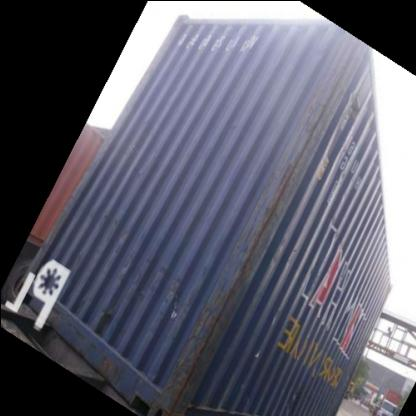Damage: (160, 177, 256, 396), (252, 18, 340, 236)
